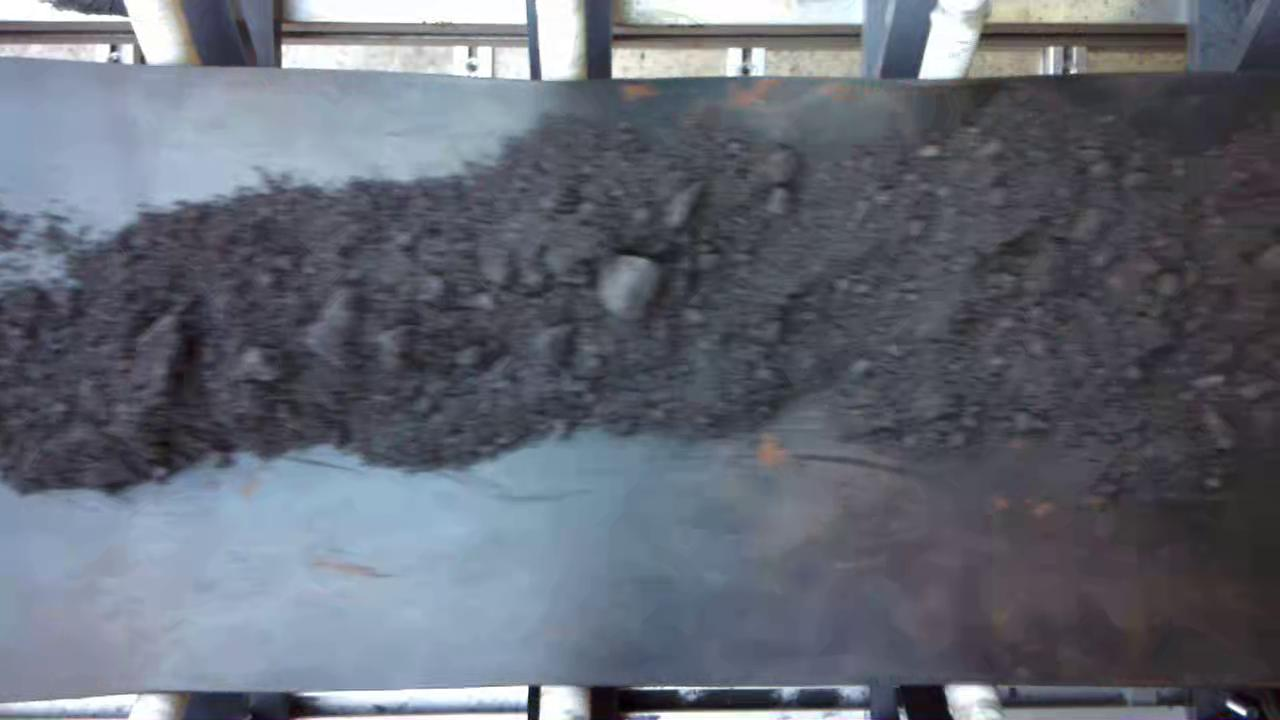conveyor: (7, 81, 1280, 677)
